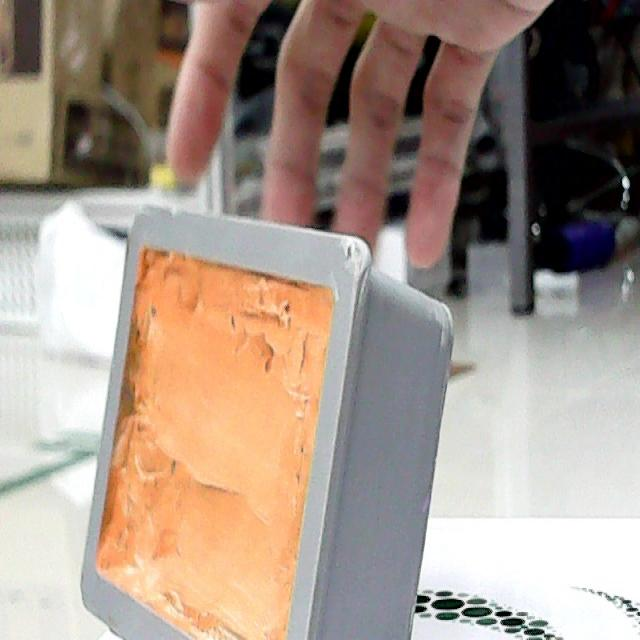block: (71, 201, 462, 640)
